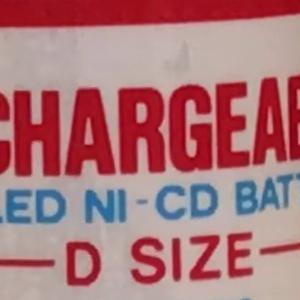keyword: (68, 174, 228, 258)
